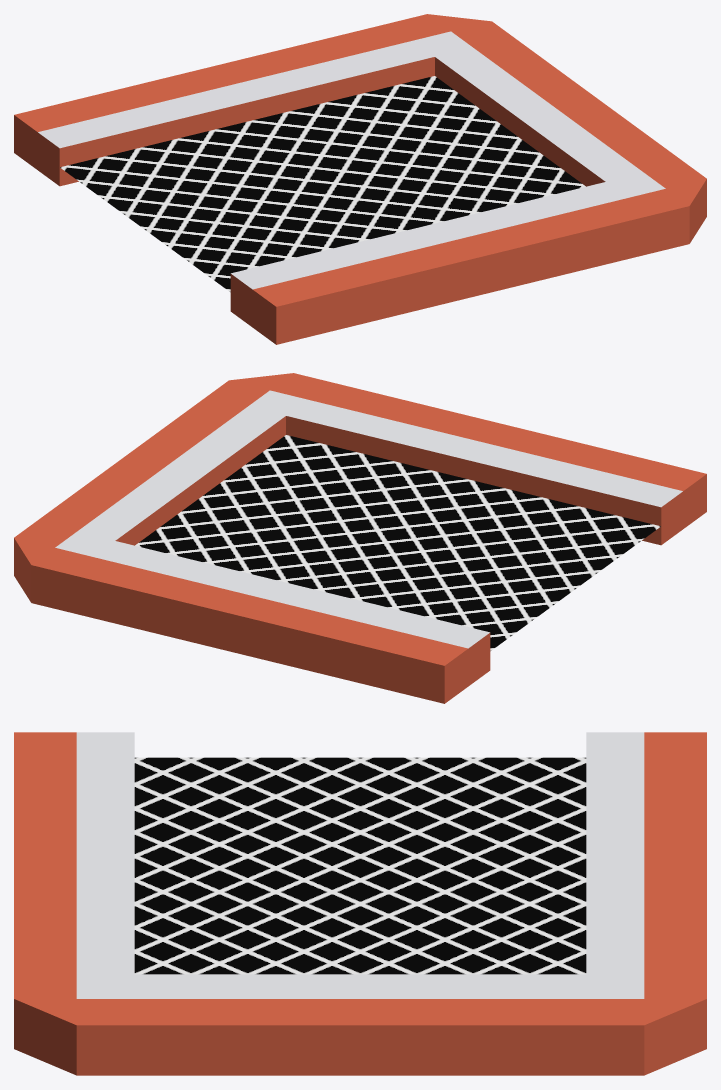
Rendered from metalTileConnectEnd.fbx.
3 views of the same model, one above another, from view 1: azimuth 30°, elevation 25°; view 2: azimuth 150°, elevation 25°; view 3: azimuth 270°, elevation 25° (orthographic). The views are drawn at different scales.
Parts seen in each view (by area): view 1: metalTileConnectEnd; view 2: metalTileConnectEnd; view 3: metalTileConnectEnd.
Boxes of the visible parts, x1=… form: metalTileConnectEnd: x1=14, y1=14, x2=706, y2=344; metalTileConnectEnd: x1=14, y1=373, x2=706, y2=703; metalTileConnectEnd: x1=14, y1=732, x2=706, y2=1075.
Bounding box in the file's own units: 10 × 0.8 × 10.
